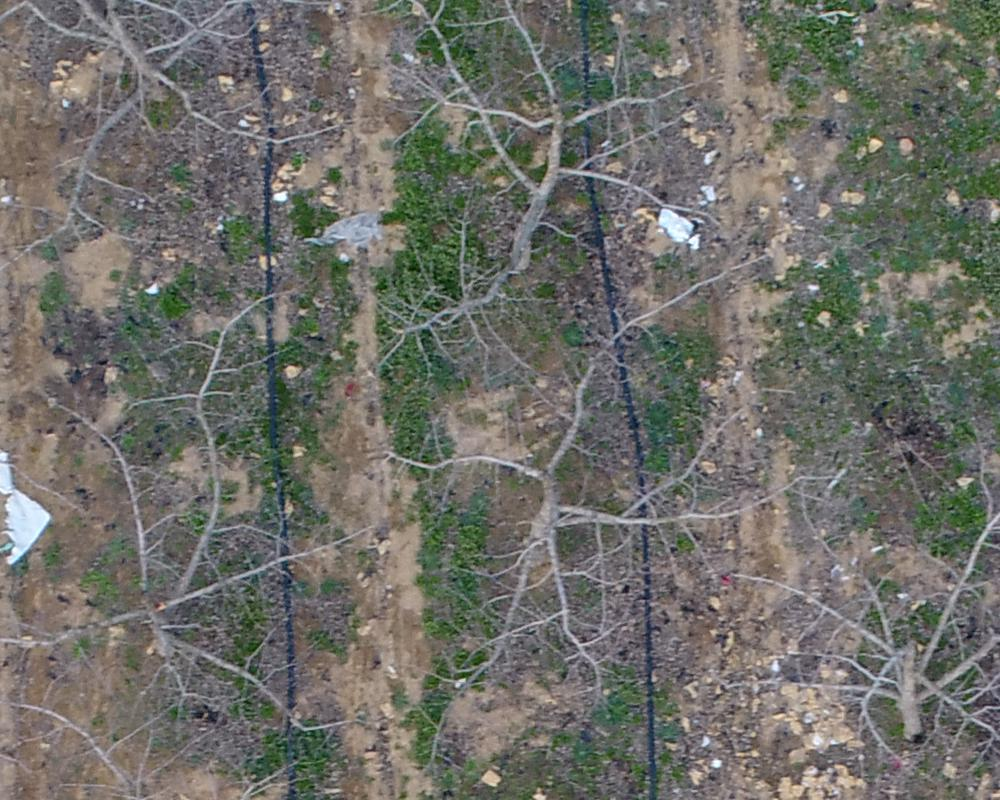apple: (374, 251, 785, 697), (10, 279, 385, 757), (383, 10, 725, 359), (733, 439, 990, 778), (10, 10, 352, 250)
